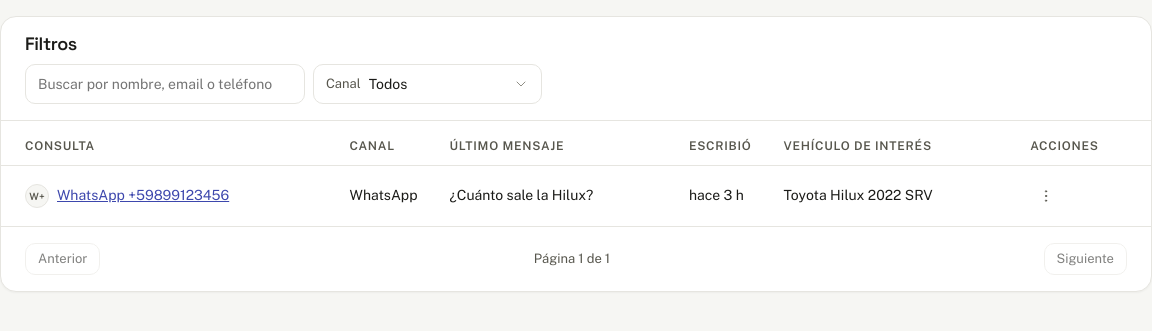
Test: ConsultasSinIdentificarTab › USER: solo abrir la conversación y crear la tarea, sin columna Vendedor ni pedido a /api/users
Click the button named "Más acciones": click(1046, 196) [1030,180,1062,212]
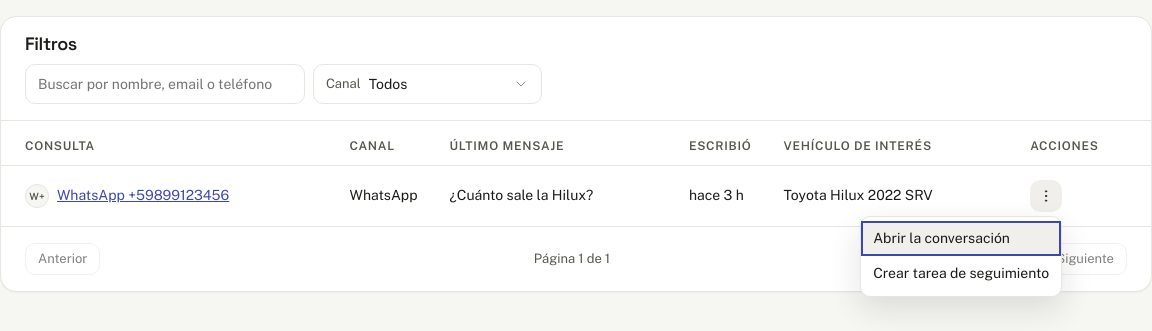
expect the menu items read "Abrir la conversación", "Crear tarea de seguimiento", in this order: met, box [861,220,1061,256]; [873,265,1049,281]
